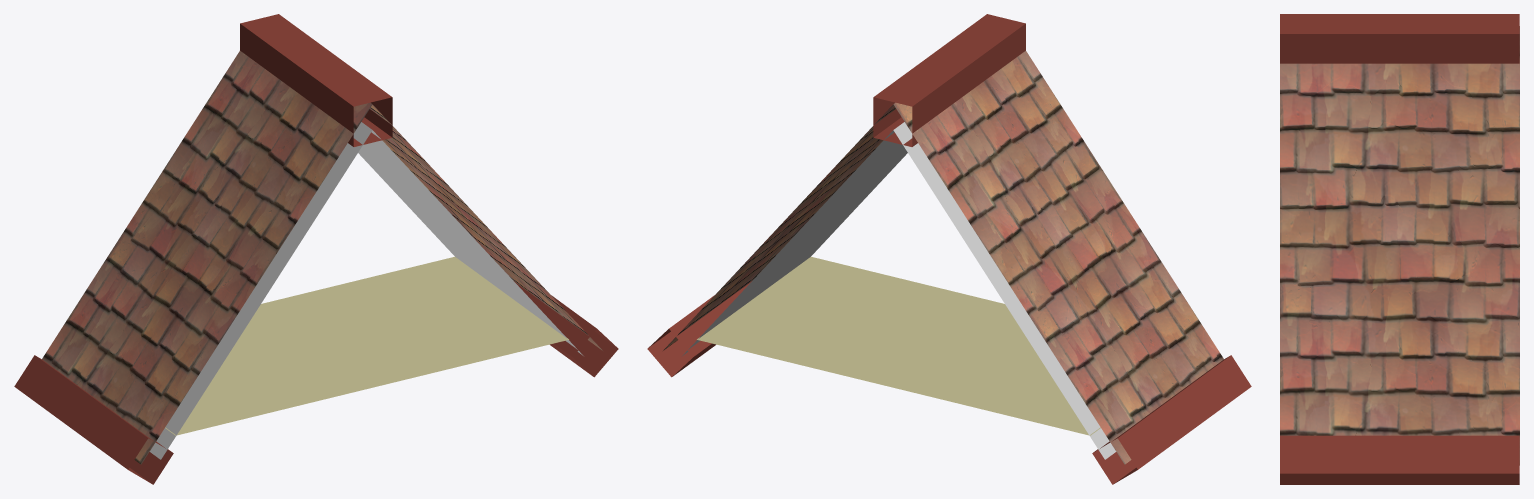
The model's file is roof_8x5x4.fbx.
3 views of the same model, side by side, from view 1: azimuth 30°, elevation 25°; view 2: azimuth 150°, elevation 25°; view 3: azimuth 270°, elevation 25° (orthographic). The views are drawn at different scales.
Visible parts, largest first — view 1: roof_8x5x4; view 2: roof_8x5x4; view 3: roof_8x5x4.
Part boxes in pixels (x1,y1,x2,y2): roof_8x5x4: (14, 14, 618, 484); roof_8x5x4: (647, 14, 1251, 484); roof_8x5x4: (1280, 14, 1519, 484).
Bounding box in the file's own units: 997 × 639 × 400.
